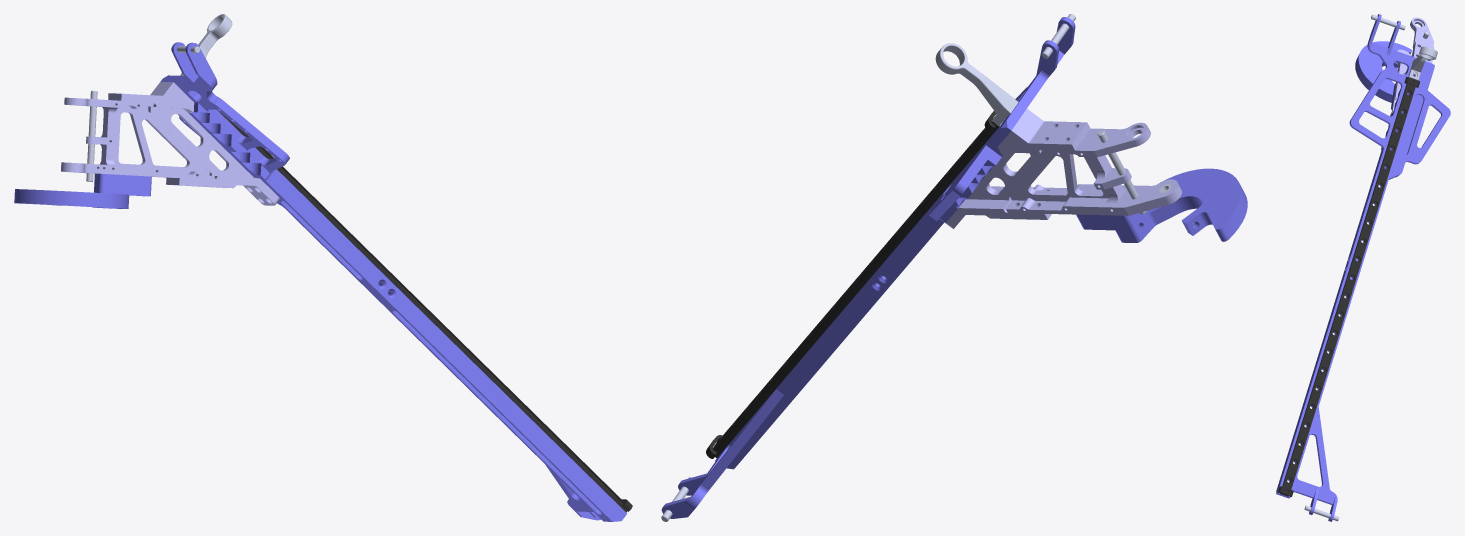
3 views of the same model, side by side, from view 1: azimuth 30°, elevation 25°; view 2: azimuth 150°, elevation 25°; view 3: azimuth 270°, elevation 25° (orthographic). The views are drawn at different scales.
Visible parts, largest first — view 1: Actor10, Actor9, Actor7, Actor4, Actor8, Actor6, Actor3; view 2: Actor7, Actor9, Actor10, Actor6, Actor4, Actor8, Actor3; view 3: Actor10, Actor8, Actor9, Actor6, Actor7, Actor3.
Part boxes in pixels (x1,y1,x2,y2): Actor10: (160,42,401,304); Actor9: (366,282,626,521); Actor7: (61,97,214,179); Actor4: (108,81,279,205); Actor8: (218,111,632,512); Actor6: (14,173,151,208); Actor3: (180,14,232,75); Actor7: (1006,122,1182,215); Actor9: (661,276,885,518); Actor10: (865,17,1075,295); Actor6: (1076,168,1247,242); Actor4: (945,109,1090,228); Actor8: (706,111,999,458); Actor3: (935,43,1018,126); Actor10: (1343,14,1450,275); Actor8: (1278,77,1419,496); Actor9: (1276,258,1358,521); Actor6: (1355,41,1411,109); Actor7: (1391,17,1433,114); Actor3: (1408,46,1437,80).
Size of the model in its own units: 0.4382 by 0.4229 by 0.1762.
